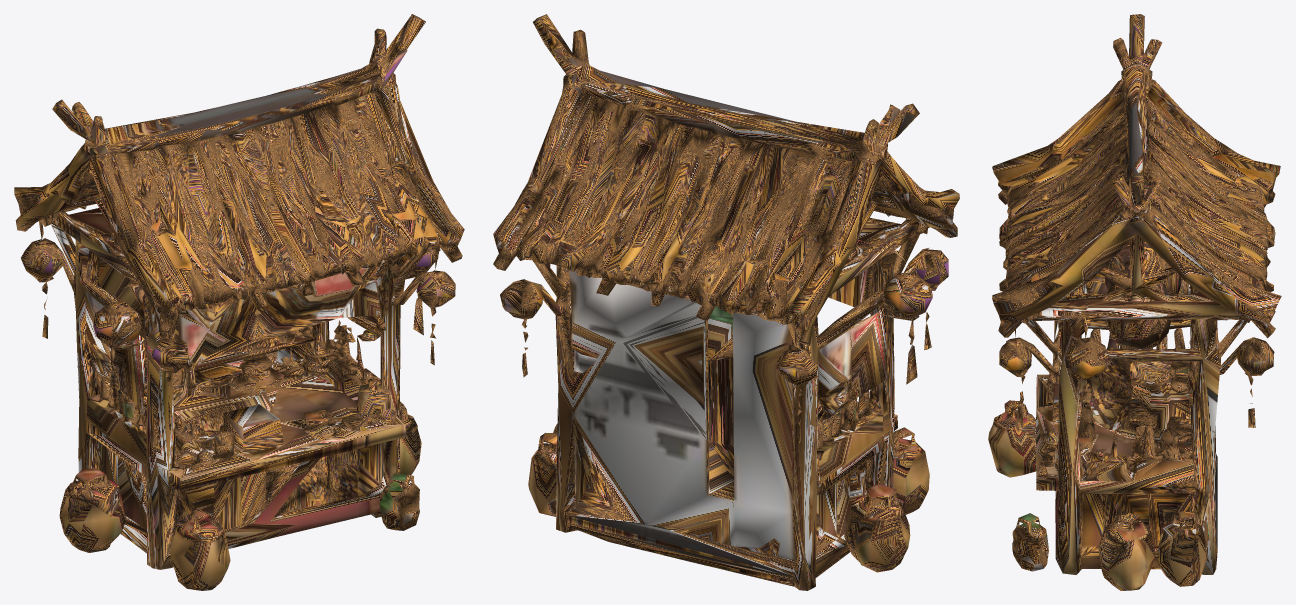
File: bq_lantern_shop.lod.glb
The picture shows the model from 3 angles, left to right: view 1: azimuth 30°, elevation 25°; view 2: azimuth 150°, elevation 25°; view 3: azimuth 270°, elevation 25°; orthographic projection. The views are drawn at different scales.
Size of the model in its own units: 1.62 by 1.9 by 1.19.
Materials: 1 (1 with a texture image).
